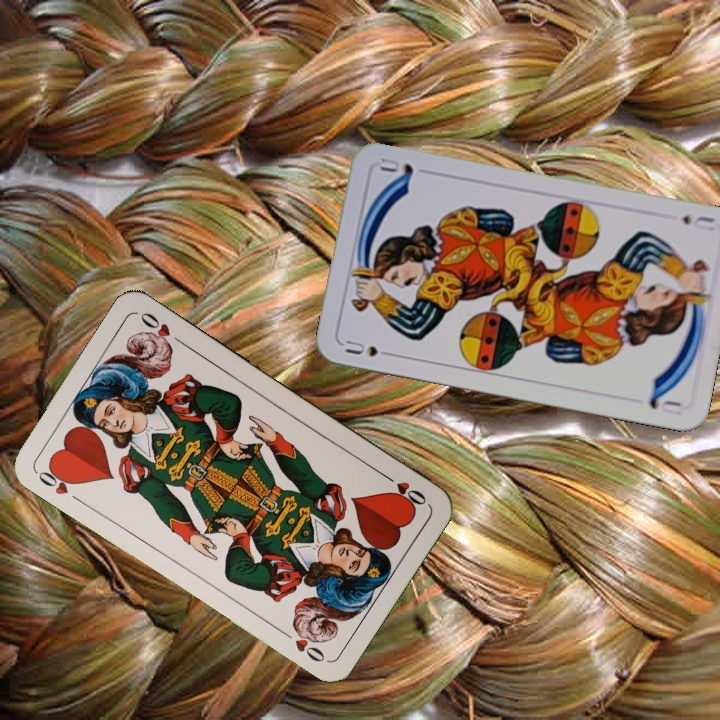HO: (32, 461, 85, 506), (378, 469, 429, 510)
SU: (341, 336, 398, 359), (678, 211, 718, 234)
